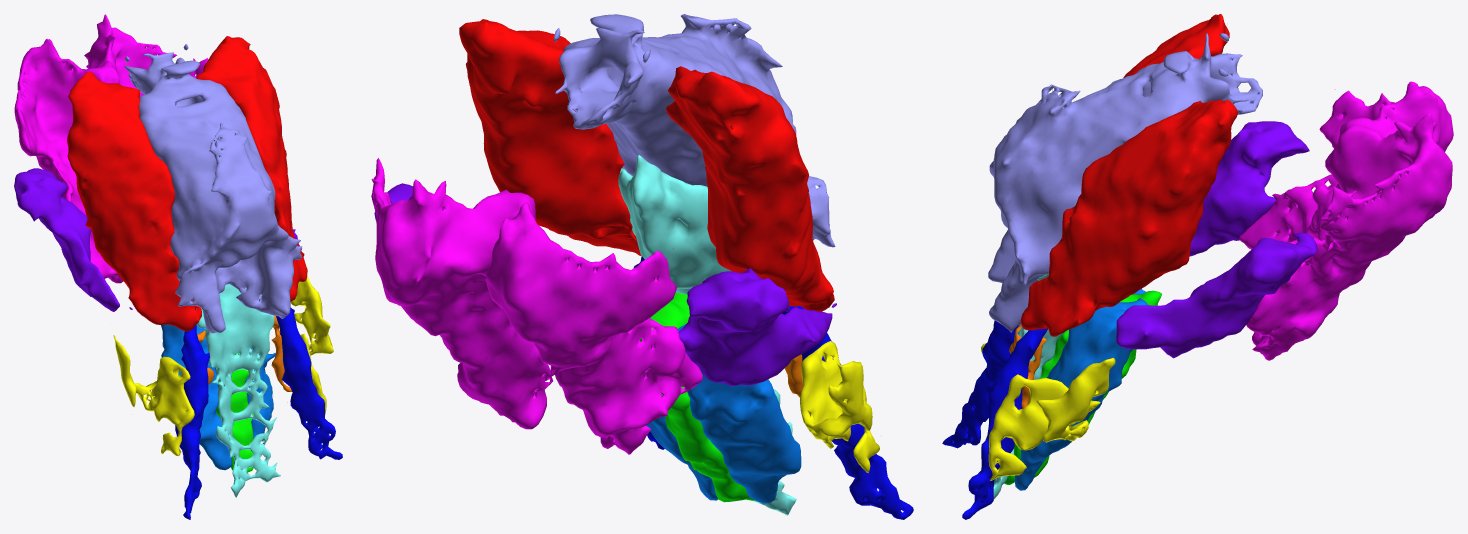
Rendered from arousal-nuclei.glb.
3 views of the same model, side by side, from view 1: azimuth 30°, elevation 25°; view 2: azimuth 150°, elevation 25°; view 3: azimuth 270°, elevation 25° (orthographic). The views are drawn at different scales.
Parts seen in each view (by area): view 1: aan:midline:periaqueductal-grey, aan:left:mesencephalic-reticular-formation, aan:midline:ventral-tegmental-area, aan:midline:dorsal-raphe, aan:right:mesencephalic-reticular-formation, aan:left:pedunculotegmental-nucleus, aan:right:locus-coeruleus, aan:left:parabrachial-complex, aan:left:locus-coeruleus, aan:left:pontis-oralis, aan:right:parabrachial-complex, aan:midline:median-raphe (+2 smaller); view 2: aan:midline:ventral-tegmental-area, aan:right:mesencephalic-reticular-formation, aan:left:mesencephalic-reticular-formation, aan:midline:periaqueductal-grey, aan:left:pedunculotegmental-nucleus, aan:midline:dorsal-raphe, aan:left:pontis-oralis, aan:left:parabrachial-complex, aan:midline:median-raphe, aan:left:locus-coeruleus, aan:right:pontis-oralis; view 3: aan:midline:ventral-tegmental-area, aan:right:mesencephalic-reticular-formation, aan:midline:periaqueductal-grey, aan:right:pedunculotegmental-nucleus, aan:left:pedunculotegmental-nucleus, aan:right:parabrachial-complex, aan:right:pontis-oralis, aan:right:locus-coeruleus, aan:left:locus-coeruleus, aan:left:mesencephalic-reticular-formation, aan:midline:median-raphe, aan:midline:dorsal-raphe.
Part boxes in pixels (left/top/right/bottom): aan:midline:periaqueductal-grey: left=124, top=44, right=302, bottom=333; aan:left:mesencephalic-reticular-formation: left=67, top=72, right=201, bottom=331; aan:midline:ventral-tegmental-area: left=14, top=14, right=208, bottom=283; aan:midline:dorsal-raphe: left=196, top=284, right=280, bottom=497; aan:right:mesencephalic-reticular-formation: left=196, top=36, right=307, bottom=301; aan:left:pedunculotegmental-nucleus: left=14, top=168, right=132, bottom=311; aan:right:locus-coeruleus: left=276, top=307, right=342, bottom=459; aan:left:parabrachial-complex: left=113, top=335, right=194, bottom=455; aan:left:locus-coeruleus: left=175, top=324, right=209, bottom=519; aan:left:pontis-oralis: left=161, top=324, right=231, bottom=470; aan:right:parabrachial-complex: left=290, top=267, right=333, bottom=415; aan:midline:median-raphe: left=215, top=353, right=253, bottom=472; aan:midline:ventral-tegmental-area: left=371, top=158, right=702, bottom=454; aan:right:mesencephalic-reticular-formation: left=459, top=19, right=641, bottom=255; aan:left:mesencephalic-reticular-formation: left=666, top=66, right=834, bottom=311; aan:midline:periaqueductal-grey: left=553, top=14, right=835, bottom=247; aan:left:pedunculotegmental-nucleus: left=678, top=268, right=836, bottom=385; aan:midline:dorsal-raphe: left=618, top=155, right=796, bottom=515; aan:left:pontis-oralis: left=677, top=323, right=801, bottom=503; aan:left:parabrachial-complex: left=800, top=341, right=879, bottom=473; aan:midline:median-raphe: left=640, top=292, right=755, bottom=502; aan:left:locus-coeruleus: left=782, top=306, right=913, bottom=519; aan:right:pontis-oralis: left=646, top=317, right=718, bottom=500; aan:midline:ventral-tegmental-area: left=1239, top=81, right=1453, bottom=360; aan:right:mesencephalic-reticular-formation: left=1020, top=99, right=1237, bottom=336; aan:midline:periaqueductal-grey: left=988, top=33, right=1262, bottom=332; aan:right:pedunculotegmental-nucleus: left=1116, top=232, right=1317, bottom=358; aan:left:pedunculotegmental-nucleus: left=1189, top=121, right=1309, bottom=256; aan:right:parabrachial-complex: left=988, top=357, right=1115, bottom=480; aan:right:pontis-oralis: left=1014, top=298, right=1148, bottom=490; aan:right:locus-coeruleus: left=962, top=328, right=1047, bottom=519; aan:left:locus-coeruleus: left=942, top=320, right=1019, bottom=448; aan:left:mesencephalic-reticular-formation: left=1123, top=14, right=1229, bottom=77; aan:midline:median-raphe: left=1004, top=290, right=1161, bottom=484; aan:midline:dorsal-raphe: left=993, top=272, right=1064, bottom=499.
Size of the model in its own units: 0.0198 by 0.028 by 0.0285.
